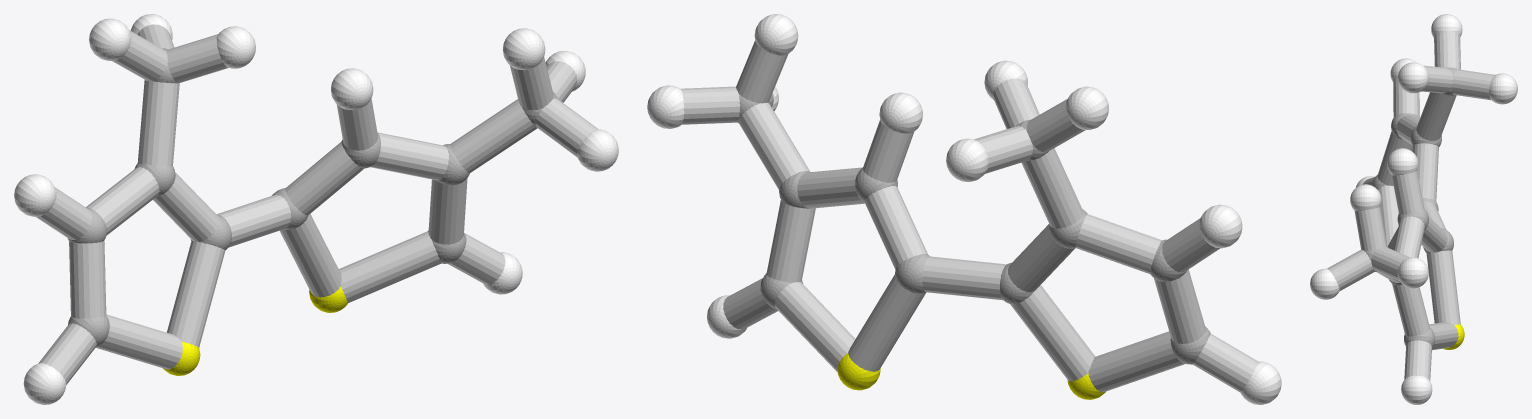
The model's file is Methylthiophene_Phi_25_Theta_210_Methylthiophene.glb.
3 renders of one model, left to right at view 1: azimuth 30°, elevation 25°; view 2: azimuth 150°, elevation 25°; view 3: azimuth 270°, elevation 25°, orthographic. The views are drawn at different scales.
Visible parts, largest first — view 1: grp7965, grp3621, grp1, grp7241; view 2: grp7965, grp3621, grp1, grp7241; view 3: grp7965, grp3621, grp1.
Part boxes in pixels (x1,y1,x2,y2): grp7965: [35, 24, 598, 384]; grp3621: [14, 14, 618, 404]; grp1: [67, 48, 557, 346]; grp7241: [163, 286, 347, 375]; grp7965: [681, 40, 1258, 392]; grp3621: [647, 14, 1281, 404]; grp1: [737, 94, 1210, 364]; grp7241: [837, 353, 1105, 399]; grp7965: [1327, 31, 1495, 380]; grp3621: [1310, 14, 1517, 404]; grp1: [1364, 67, 1457, 347].
Size of the model in its own units: 9.5 by 5.39 by 3.98.
